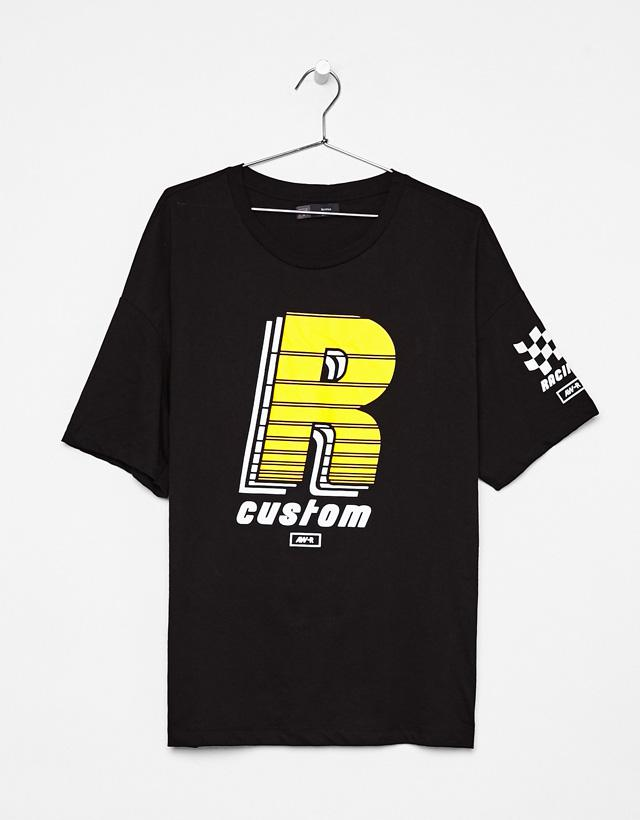teeshirt: (60, 167, 608, 795)
